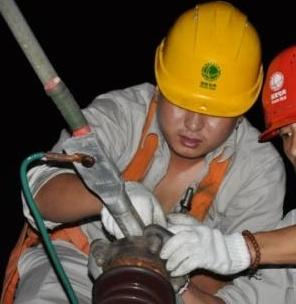gloves: (157, 211, 252, 278), (100, 179, 167, 240)
hard-hat: (154, 0, 264, 117)
vest: (4, 81, 290, 304)
